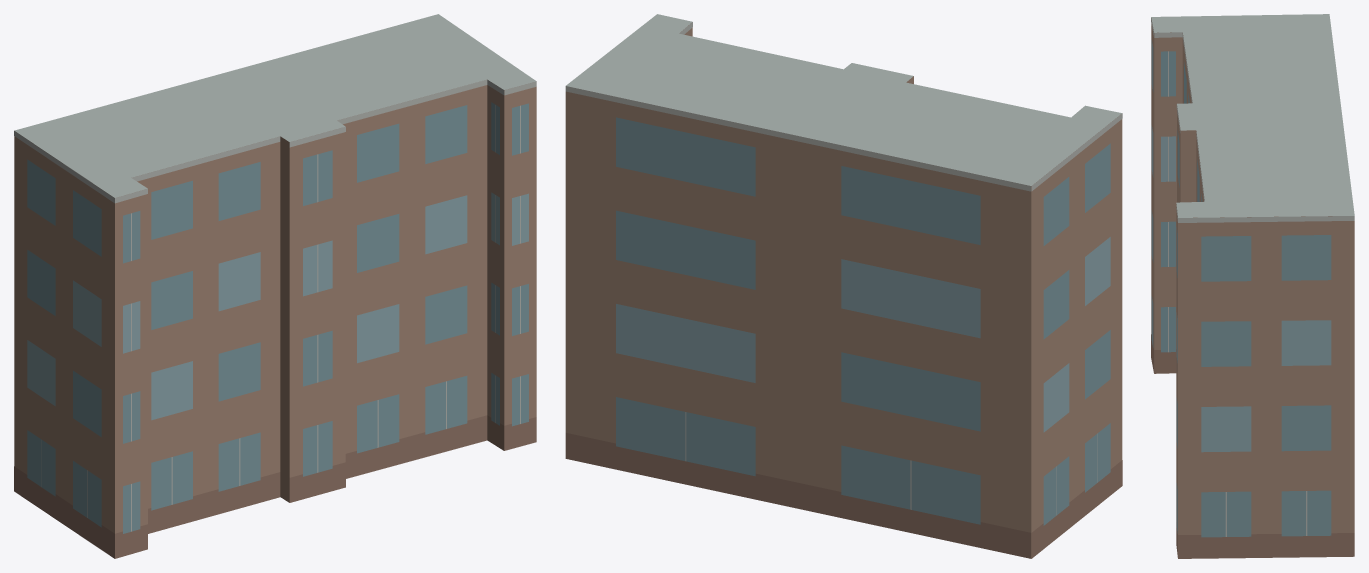
File: survey-upis-32706169.glb
3 renders of one model, left to right at view 1: azimuth 30°, elevation 25°; view 2: azimuth 150°, elevation 25°; view 3: azimuth 270°, elevation 25°, orthographic. The views are drawn at different scales.
Visible parts, largest first — view 1: survey-upis-32706169.tmp; view 2: survey-upis-32706169.tmp; view 3: survey-upis-32706169.tmp.
Part boxes in pixels (x1,y1,x2,y2): survey-upis-32706169.tmp: (14, 14, 536, 558); survey-upis-32706169.tmp: (565, 14, 1122, 558); survey-upis-32706169.tmp: (1151, 14, 1354, 558).
Size of the model in its own units: 21.05 by 16.4 by 8.89.
